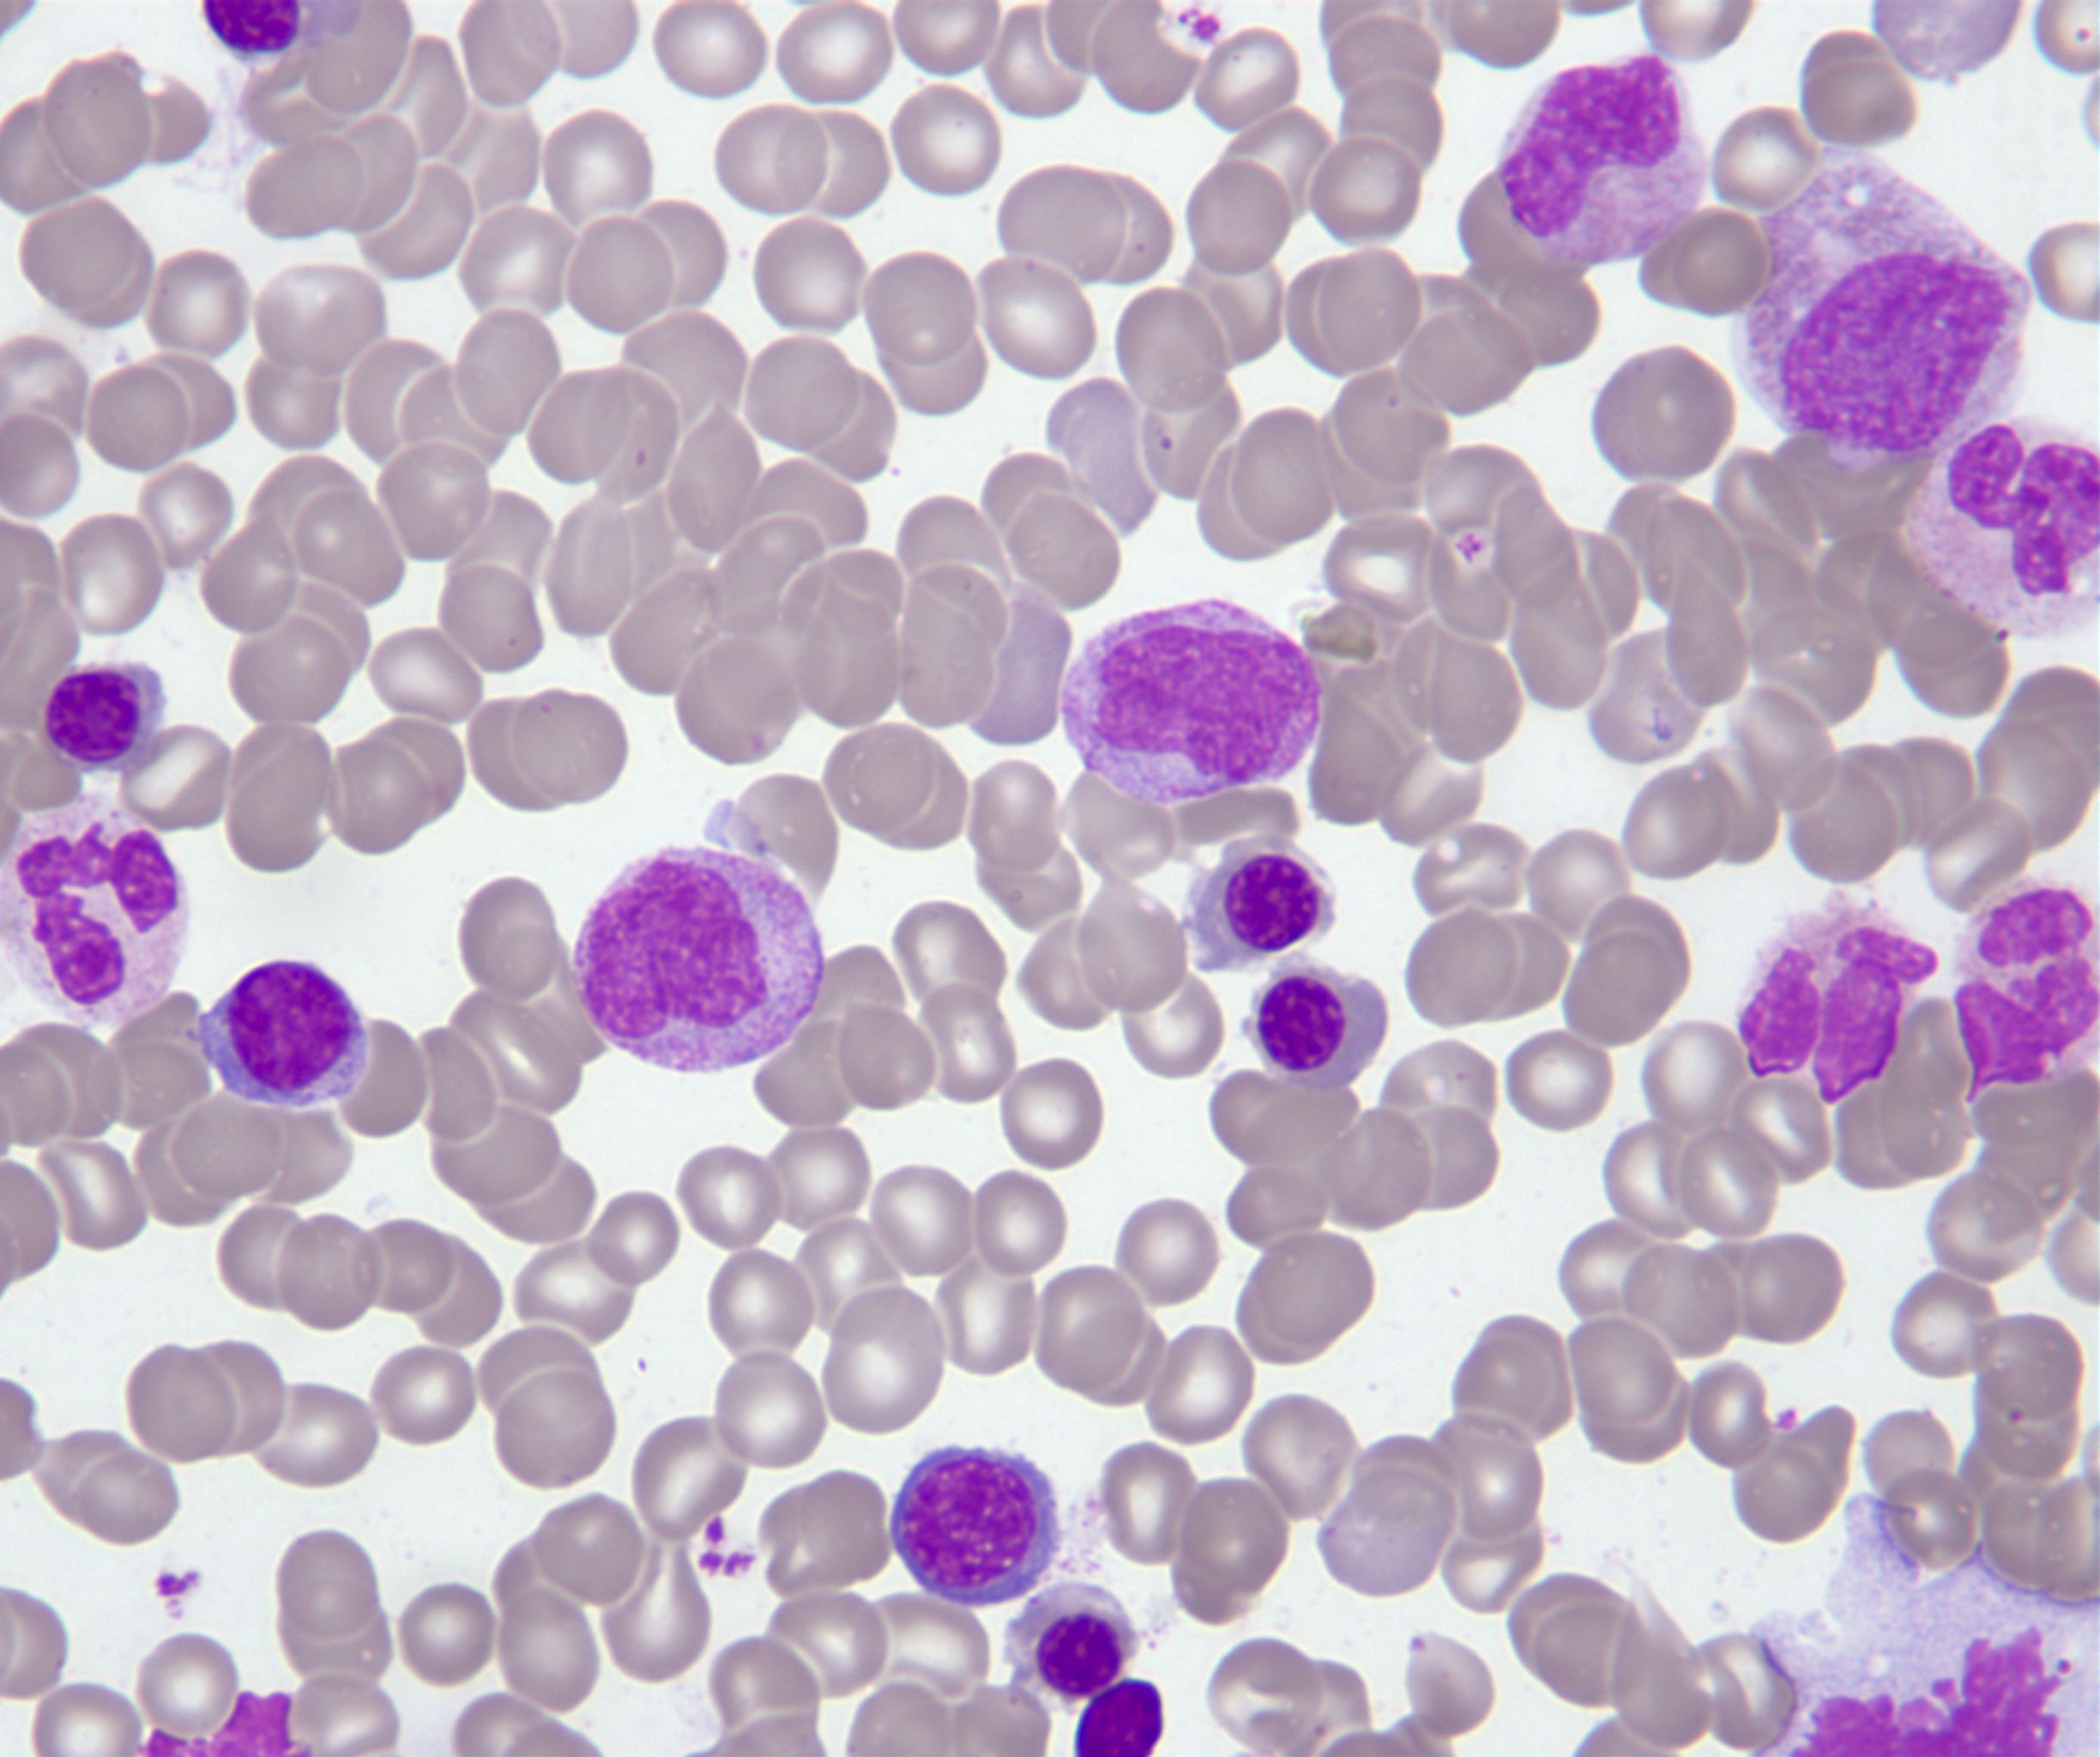23: (884, 1441, 1064, 1603)
24: (1181, 829, 1340, 970), (1235, 949, 1390, 1090), (999, 1577, 1142, 1710), (38, 653, 164, 776)
3: (1732, 138, 2039, 473)
4: (1493, 49, 1711, 265)
42: (569, 841, 828, 1078), (1057, 593, 1326, 806)
5: (1898, 412, 2100, 642)
6: (0, 789, 195, 1033)
x: (201, 956, 372, 1115)
